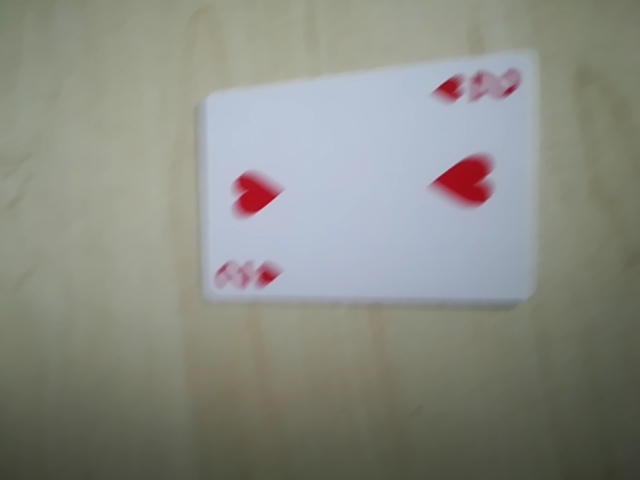hx 2: (429, 56, 529, 113), (209, 256, 289, 298)
